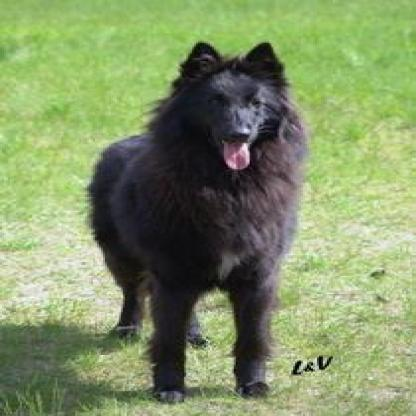groenendael: (85, 40, 303, 405)
